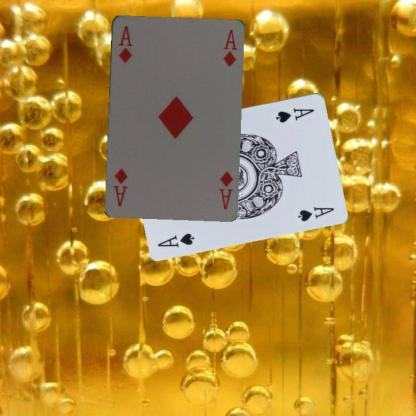Ad: (216, 169, 235, 210), (116, 23, 134, 64)
As: (273, 105, 316, 124), (155, 230, 196, 248)
